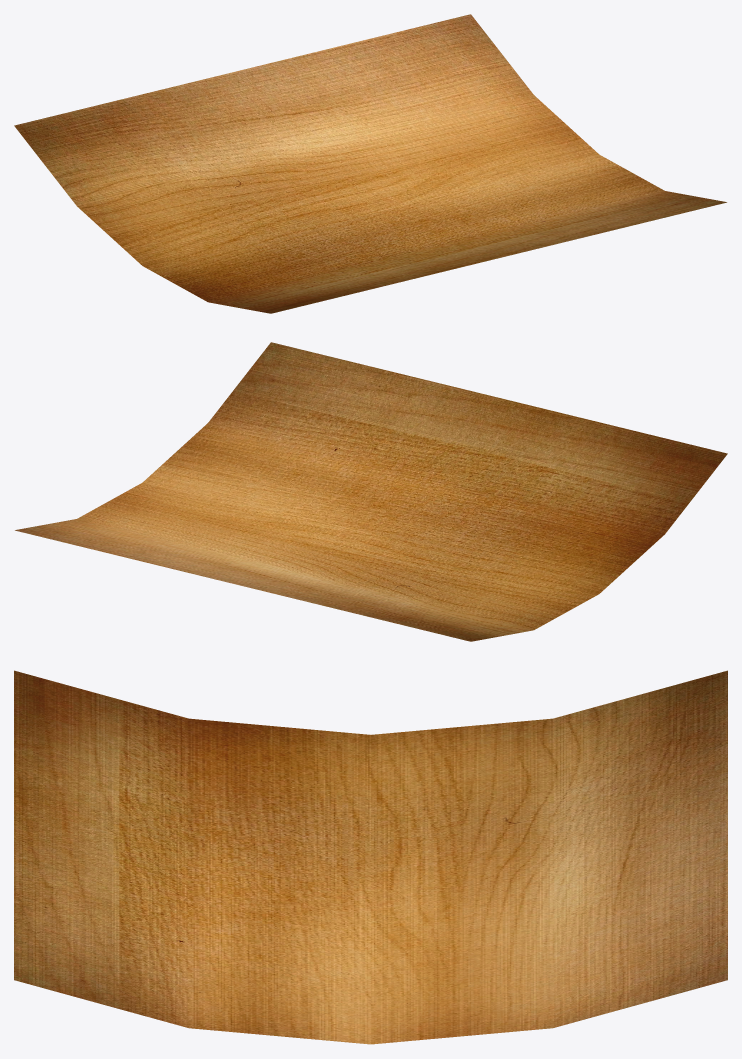
Rendered from terrain.FBX.
3 views of the same model, one above another, from view 1: azimuth 30°, elevation 25°; view 2: azimuth 150°, elevation 25°; view 3: azimuth 270°, elevation 25° (orthographic). The views are drawn at different scales.
Visible parts, largest first — view 1: Plane001; view 2: Plane001; view 3: Plane001.
Boxes of the visible parts, left/top/right/bottom form: Plane001: left=14, top=14, right=726, bottom=313; Plane001: left=15, top=342, right=727, bottom=641; Plane001: left=14, top=670, right=727, bottom=1044.
Bounding box in the file's own units: 78.74 × 76.73 × 7.63.
